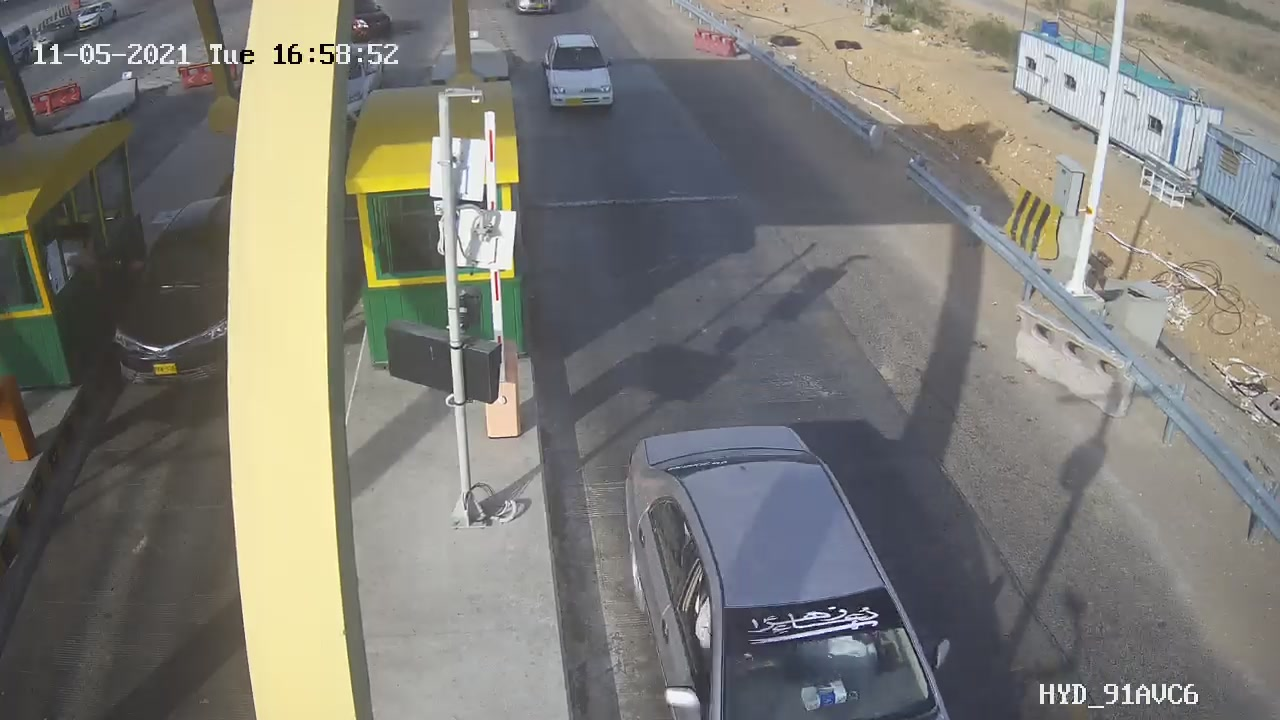F1: (527, 25, 630, 124)
